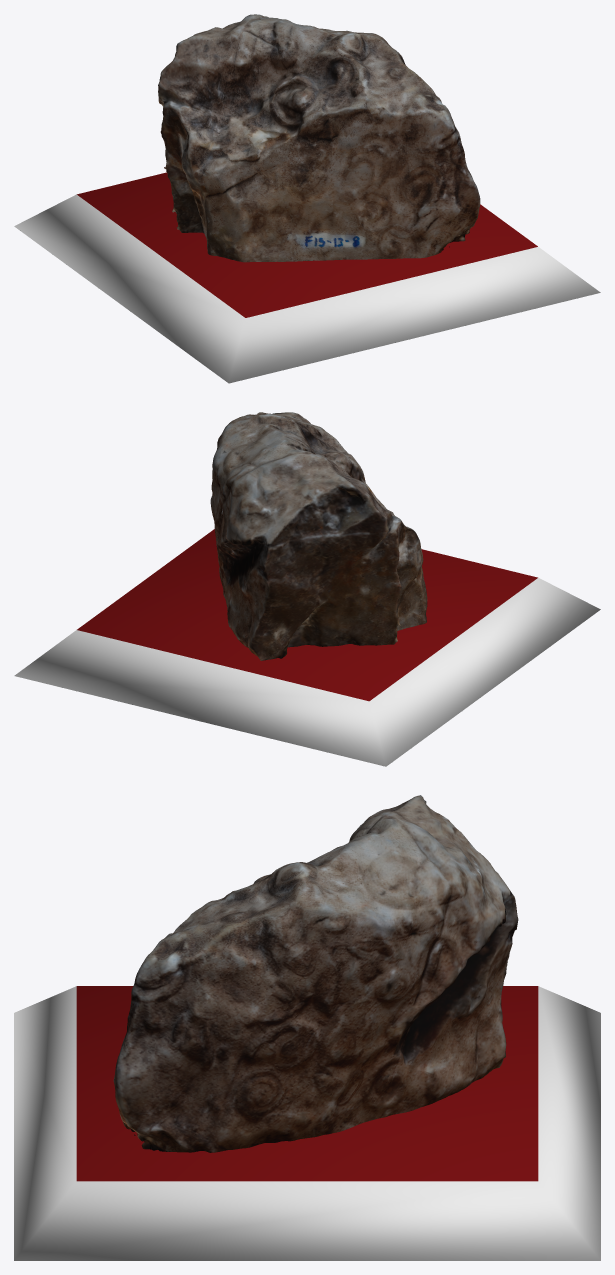
File: Caliza_Fosilifera2.glb
3 views of the same model, one above another, from view 1: azimuth 30°, elevation 25°; view 2: azimuth 150°, elevation 25°; view 3: azimuth 270°, elevation 25° (orthographic). The views are drawn at different scales.
Visible parts, largest first — view 1: mesh1; view 2: mesh1; view 3: mesh1.
Boxes of the visible parts, left/top/right/bottom form: mesh1: left=14, top=14, right=600, bottom=383; mesh1: left=14, top=412, right=600, bottom=766; mesh1: left=14, top=795, right=600, bottom=1260.
Size of the model in its own units: 10 by 5.66 by 10.
Materials: 4 (1 with a texture image).
